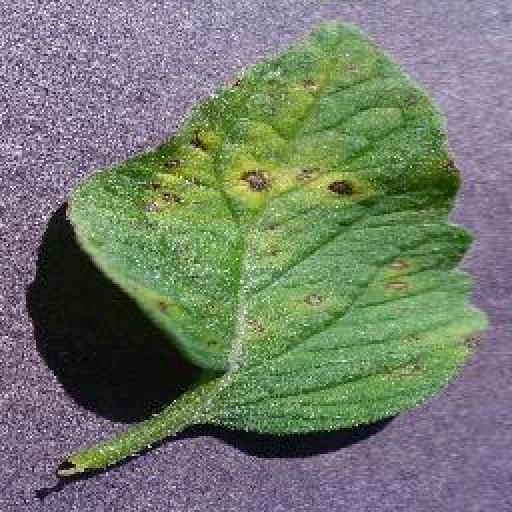disease_tomato: (62, 25, 486, 439)
